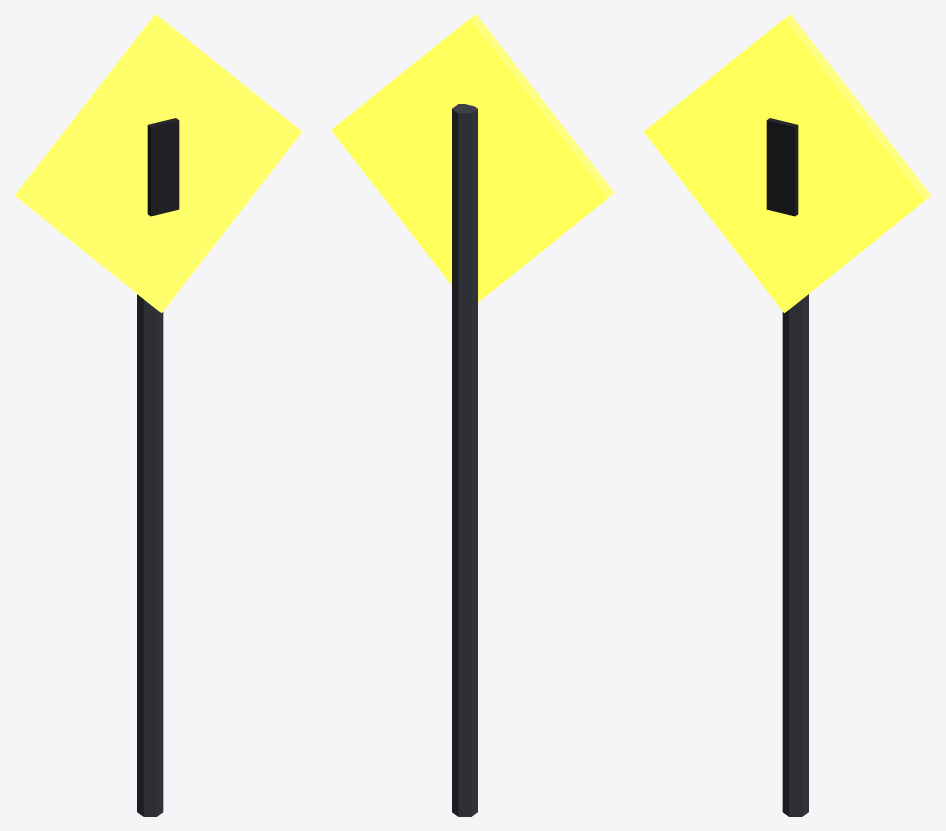
File: crosswalk_sign.glb
The picture shows the model from 3 angles, left to right: view 1: azimuth 30°, elevation 25°; view 2: azimuth 150°, elevation 25°; view 3: azimuth 330°, elevation 25°; orthographic projection.
Parts seen in each view (by area): view 1: crosswalk_sign; view 2: crosswalk_sign; view 3: crosswalk_sign.
Part boxes in pixels (<box>): crosswalk_sign: <box>14,14,302,816</box>; crosswalk_sign: <box>331,14,614,816</box>; crosswalk_sign: <box>643,14,931,816</box>.
Size of the model in its own units: 0.9899 by 2.69 by 0.13.
